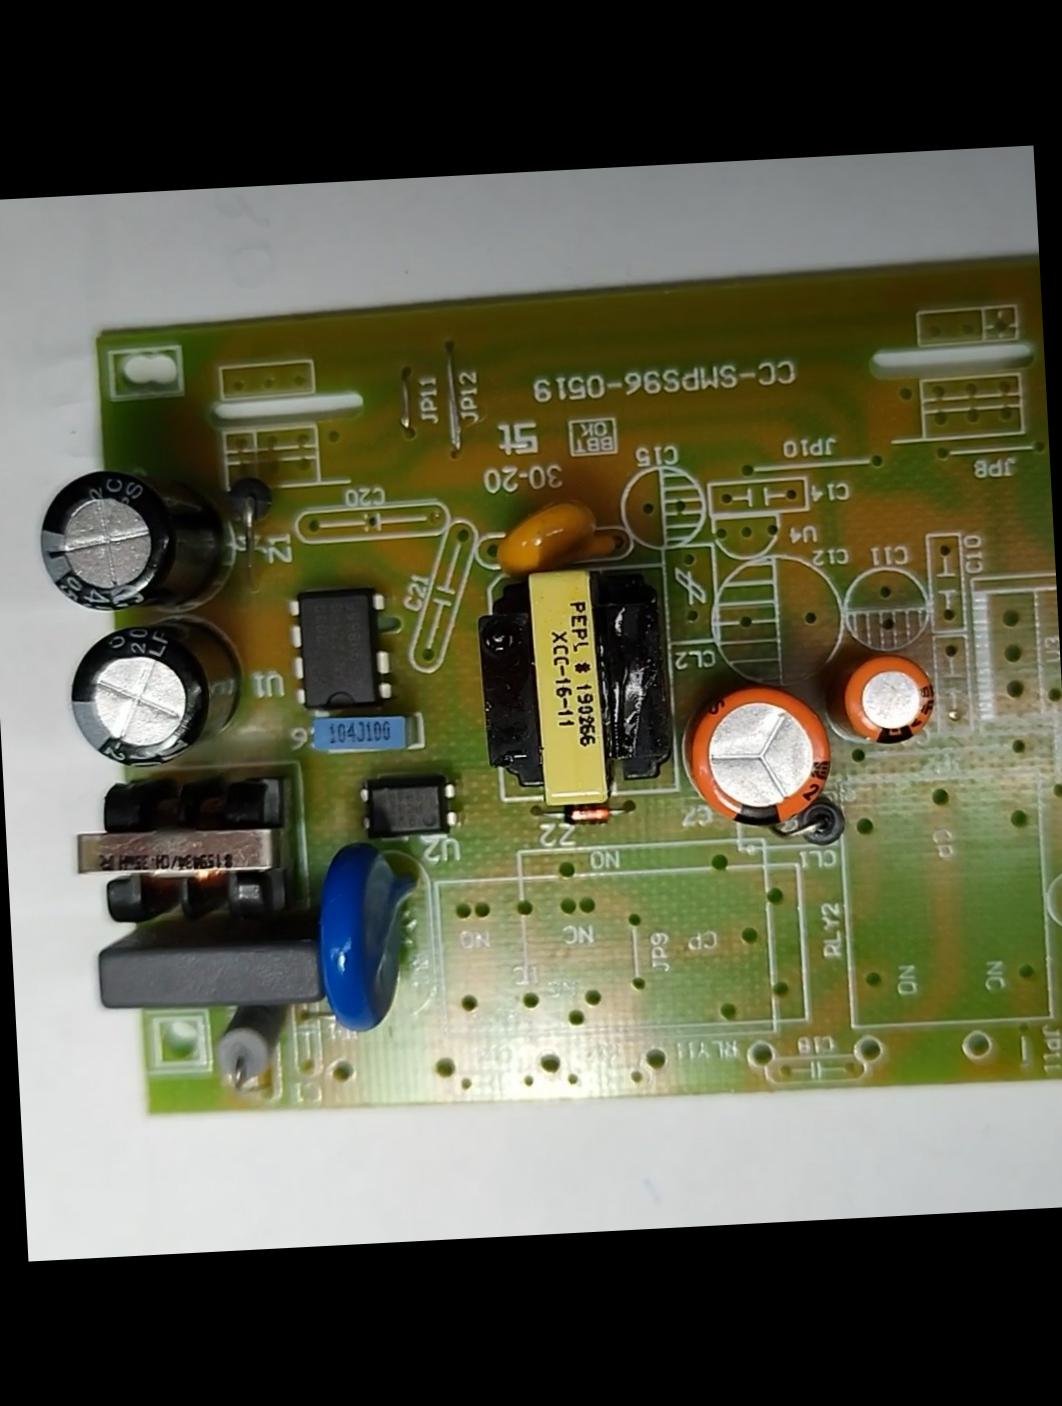Cap1: (684, 681, 838, 828)
Cap2: (836, 649, 938, 753)
Cap3: (62, 617, 248, 774)
Cap4: (31, 460, 242, 615)
MOSFET: (289, 588, 397, 718)
Mov: (306, 835, 441, 1035)
Resistor: (212, 1000, 297, 1086)
Transformer: (473, 553, 680, 815), (62, 767, 302, 941)
